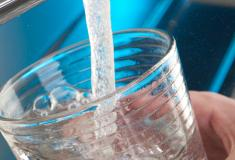glass of water: (40, 78, 178, 155)
